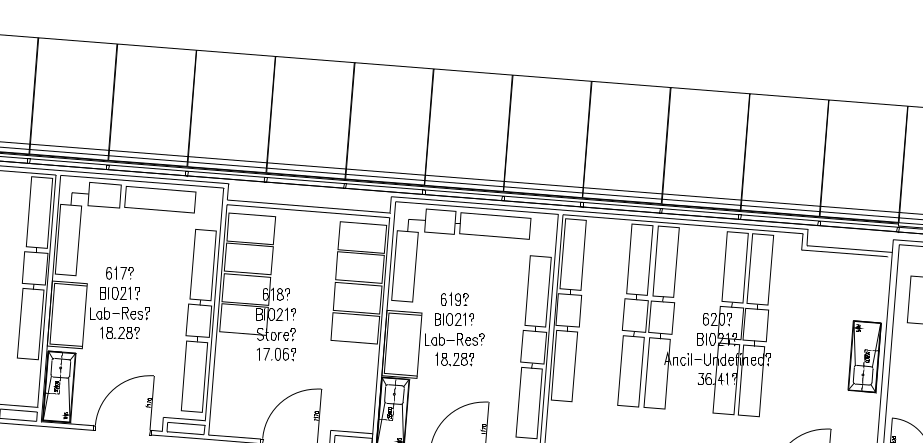door: (87, 370, 158, 441), (251, 381, 325, 443), (424, 395, 493, 443), (887, 410, 923, 443)
